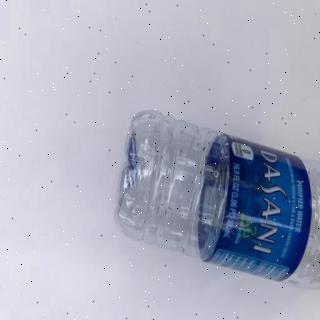Plastic-bottle: (113, 108, 320, 294)
